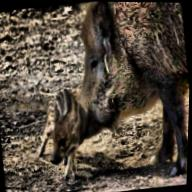boar: (65, 1, 192, 185), (38, 71, 102, 178)
